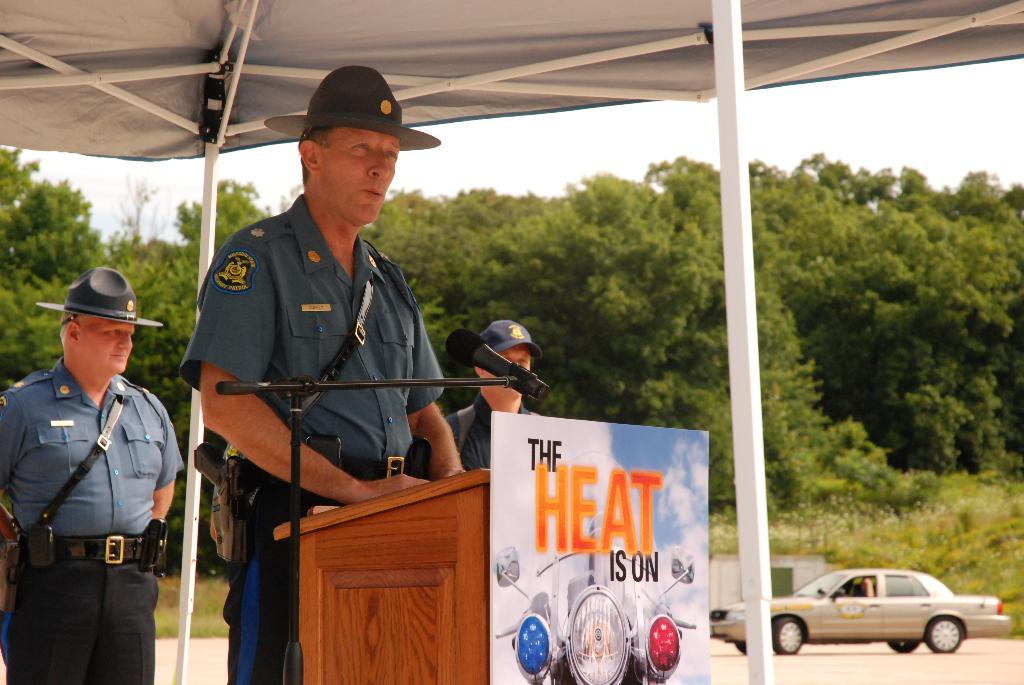Car: (712, 565, 1012, 654)
